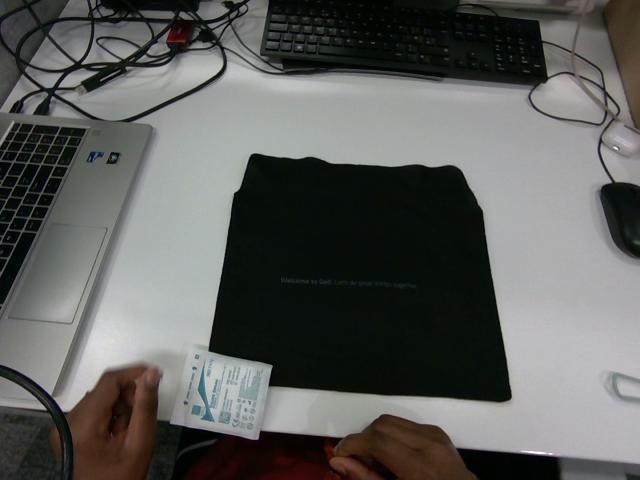gauze: (171, 349, 271, 439)
